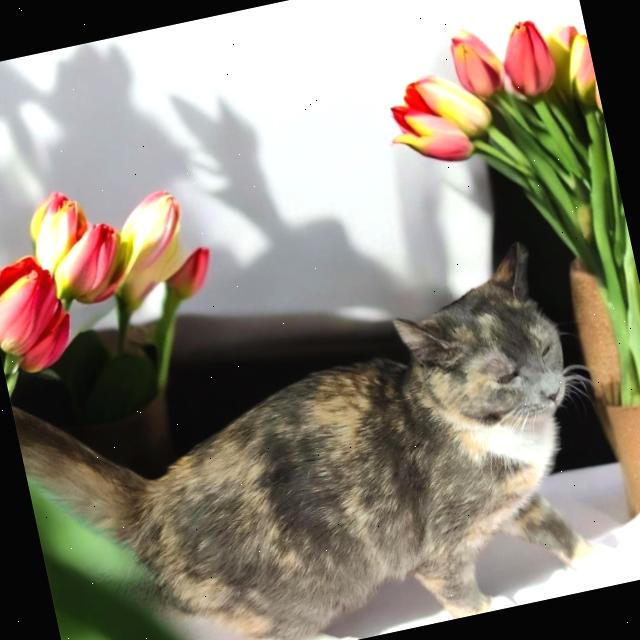calico_cat: (368, 228, 606, 476)
